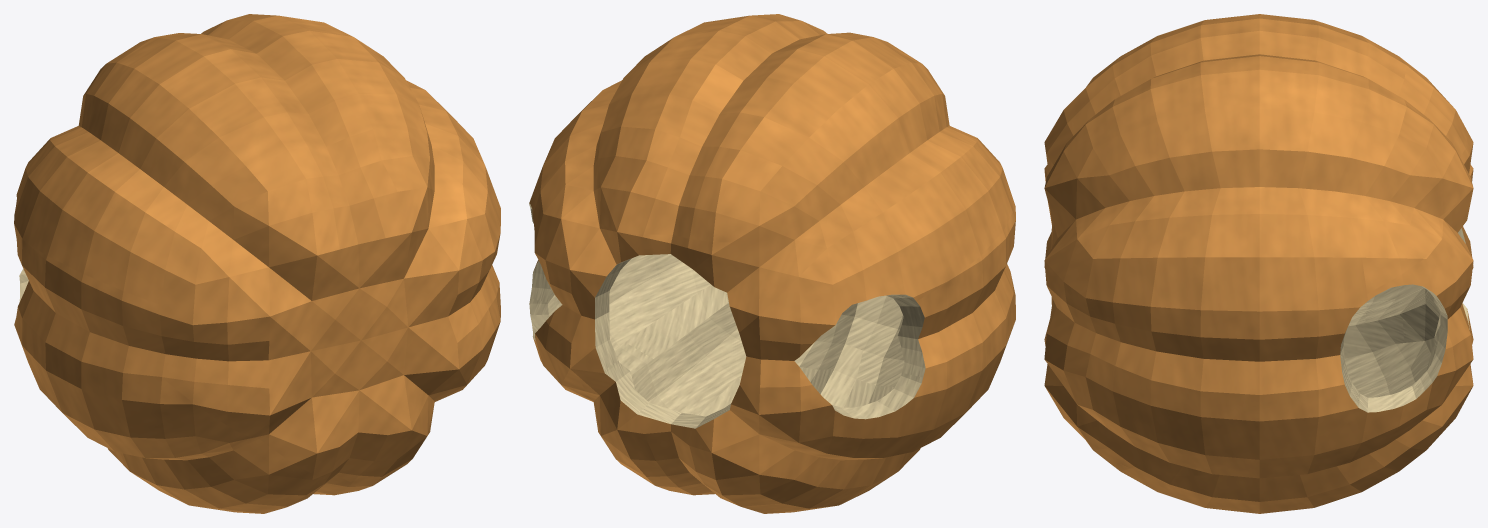
Rendered from item-pumpkin-body.glb.
3 renders of one model, left to right at view 1: azimuth 30°, elevation 25°; view 2: azimuth 150°, elevation 25°; view 3: azimuth 270°, elevation 25°, orthographic.
Bounding box in the file's own units: 2.52 × 2.51 × 2.21.
2 materials, 2 textured.
